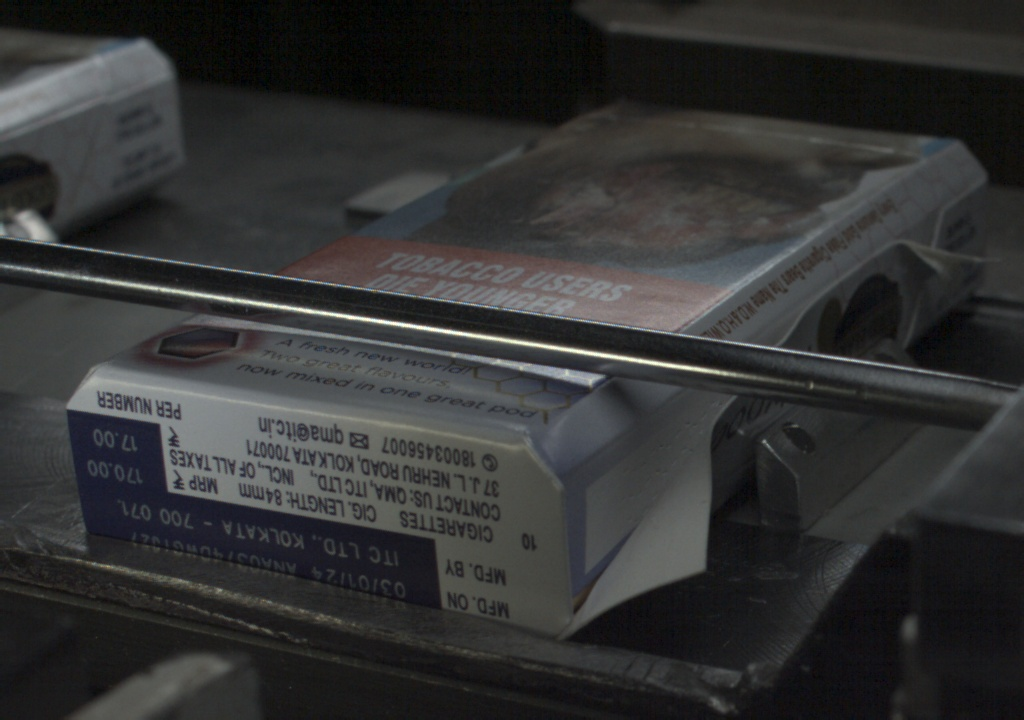g_bottom: (65, 377, 559, 641)
g_label: (80, 488, 441, 605)
g_lmiter: (820, 248, 884, 293)
g_miter: (933, 176, 993, 229)
ng_lmiter: (573, 428, 711, 599), (896, 241, 993, 286)
price: (73, 417, 166, 487)
